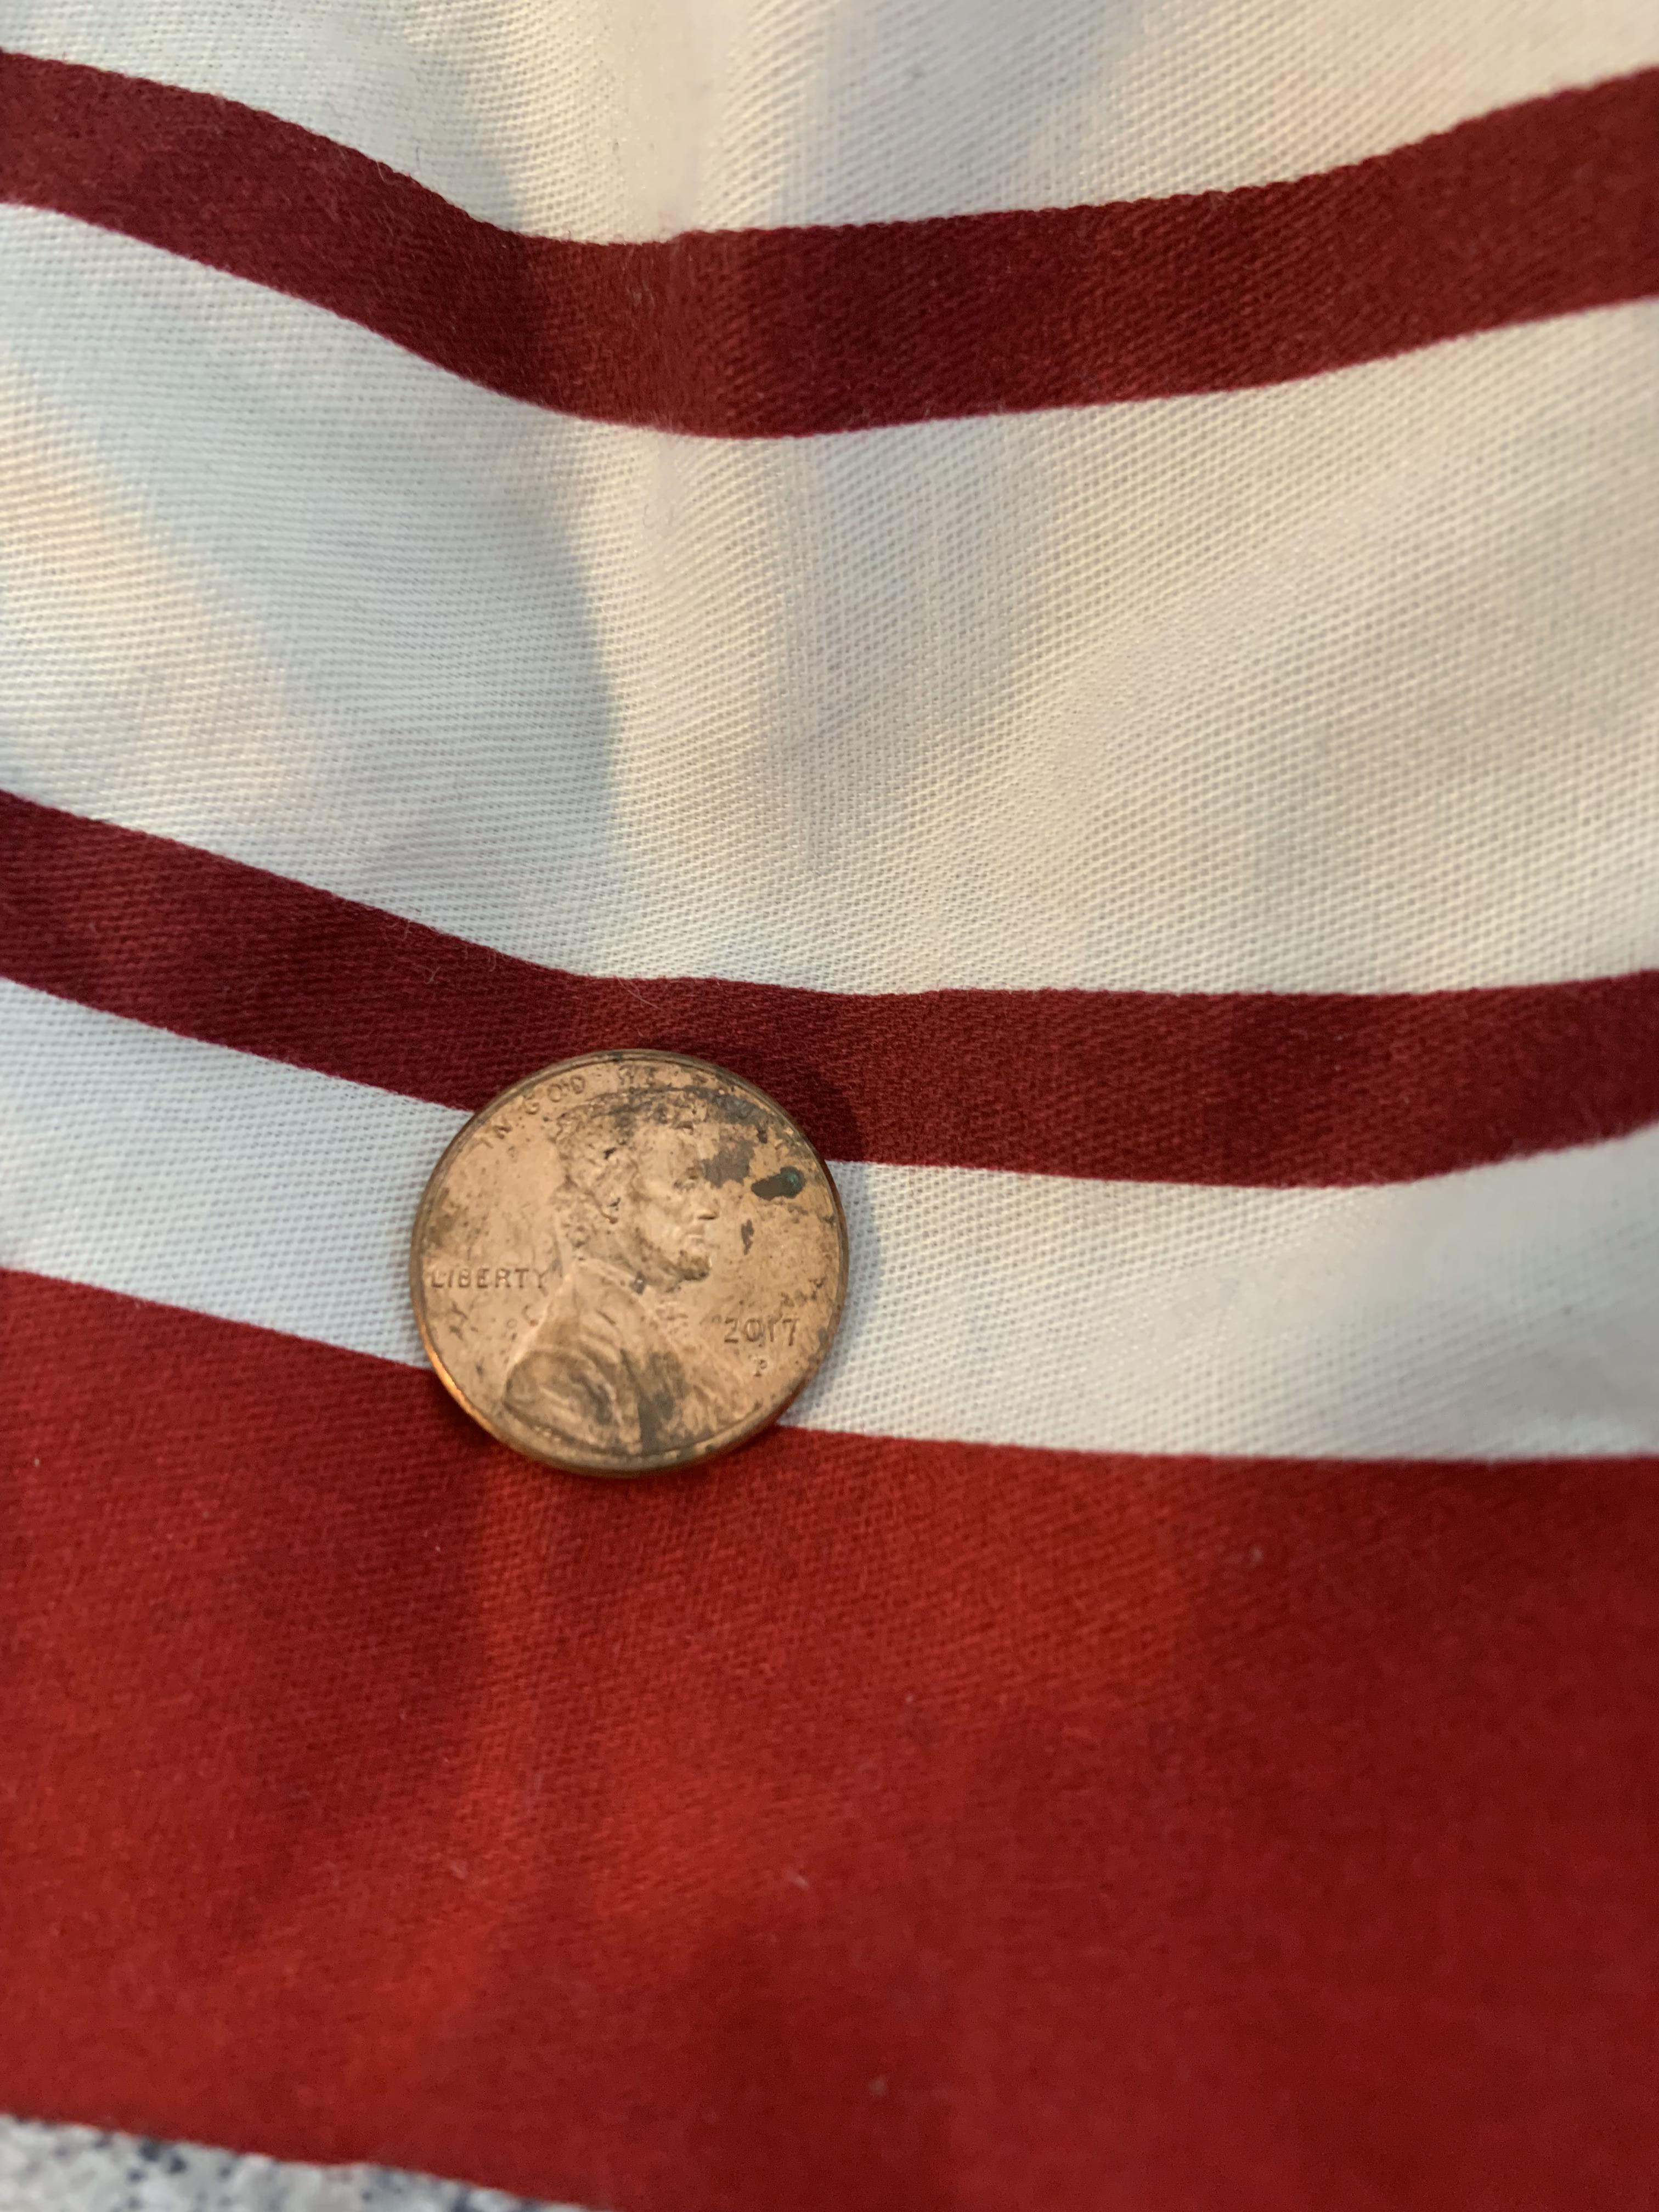Penny: (396, 1029, 871, 1487)
